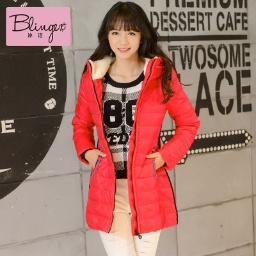face: (91, 2, 157, 62)
